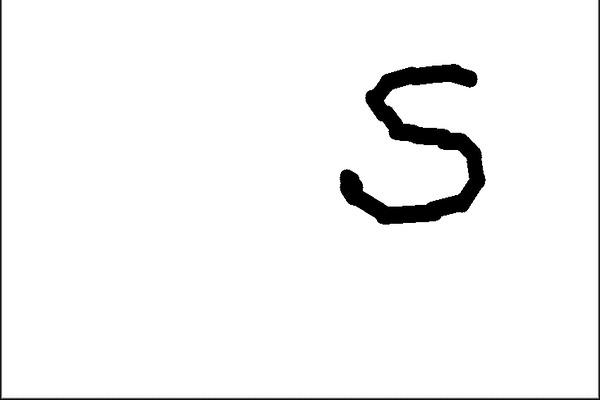S: (330, 58, 489, 242)
